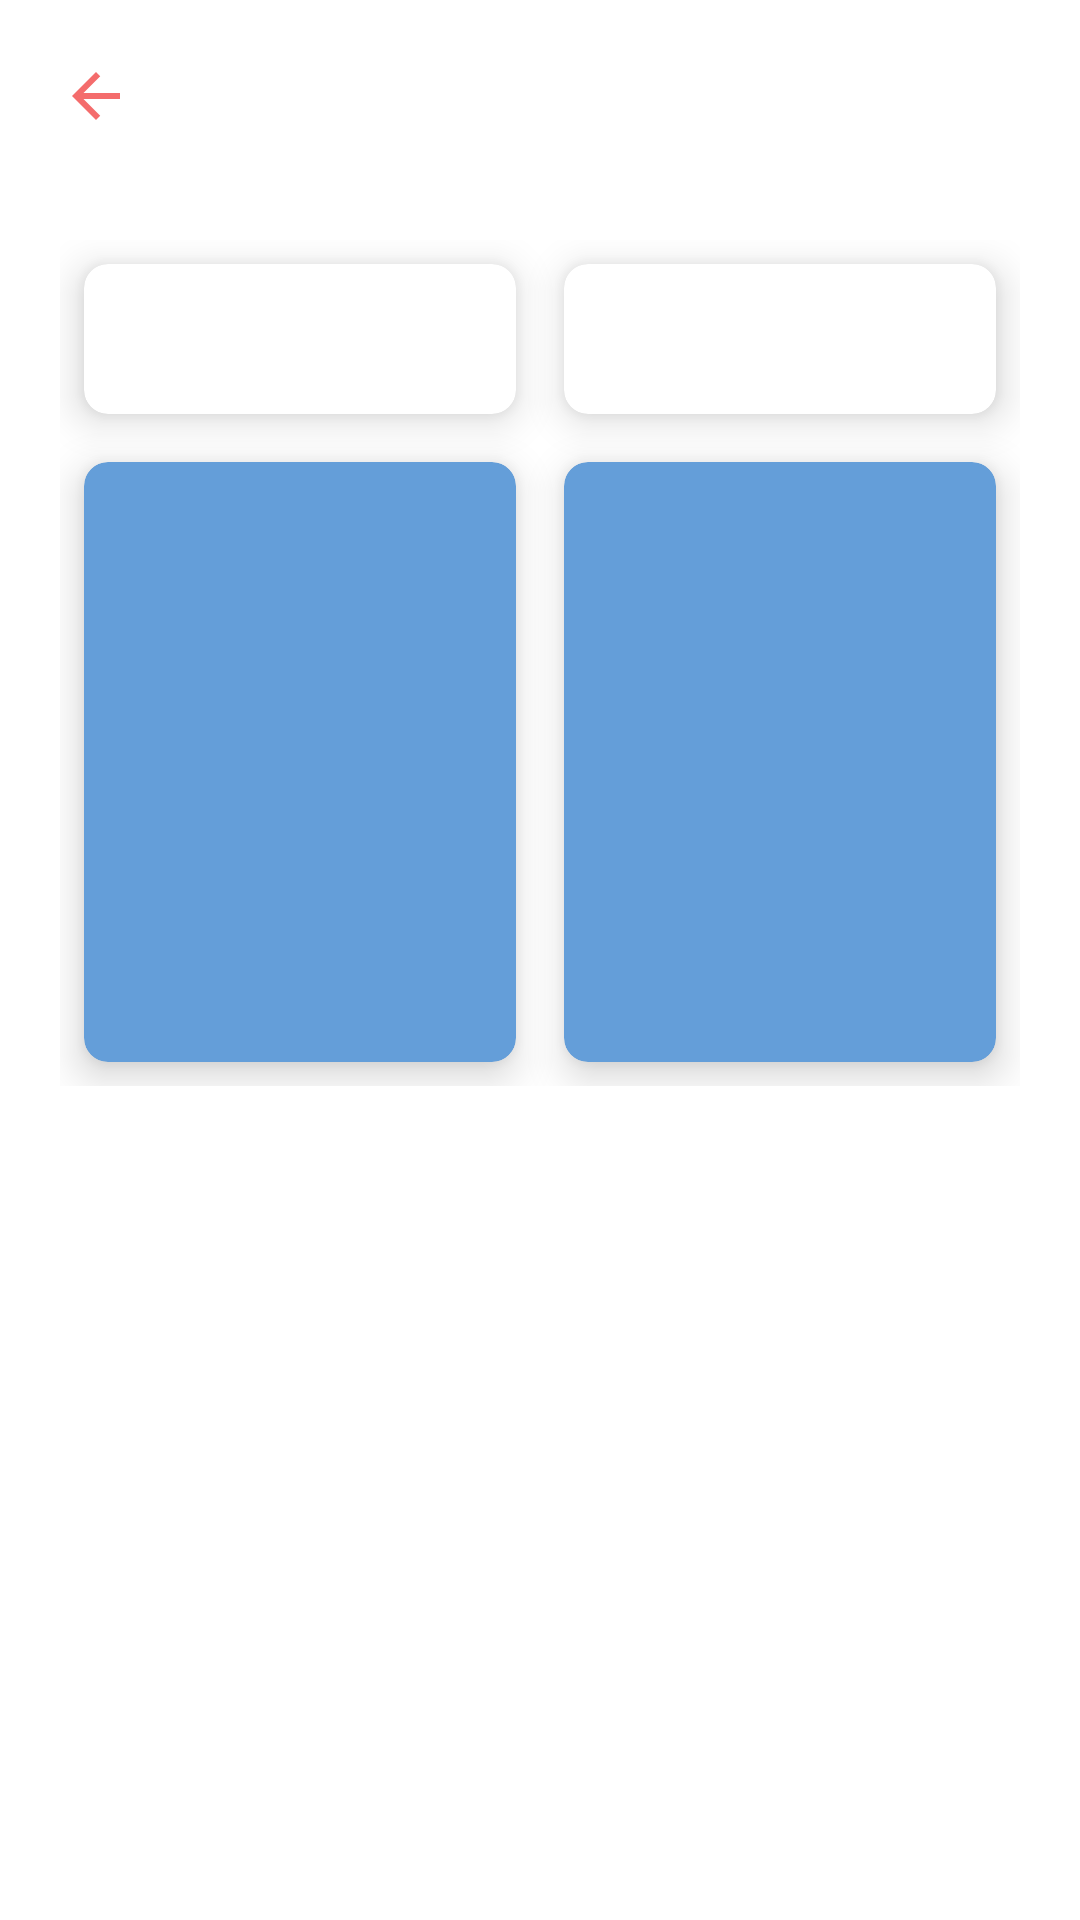

Where icons sit on this 1080w x 1920h app screen, as (x1, y1, x2, y2):
arrow back: (72, 72, 120, 120)
